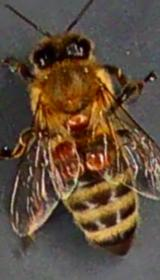varroa_mite: (51, 130, 85, 181), (57, 108, 95, 133), (80, 148, 114, 171)
